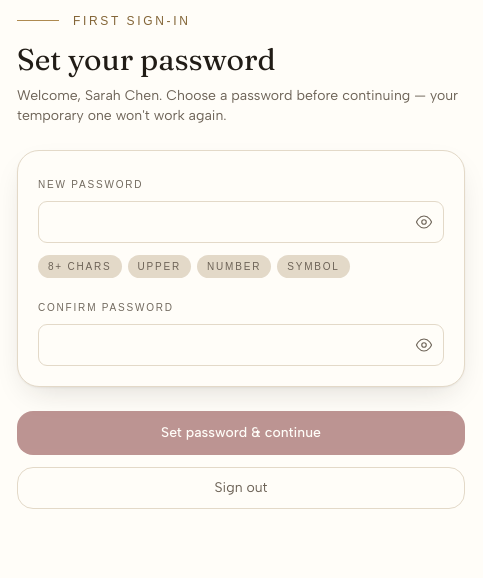
Test case: FirstLoginPassword › shows a generic error for any other failure
The width and height of the screenshot is (483, 578).
Step 1. Type "Str0ng!pass" into the password field labelled "New password" → (241, 222), box [38, 200, 444, 242]
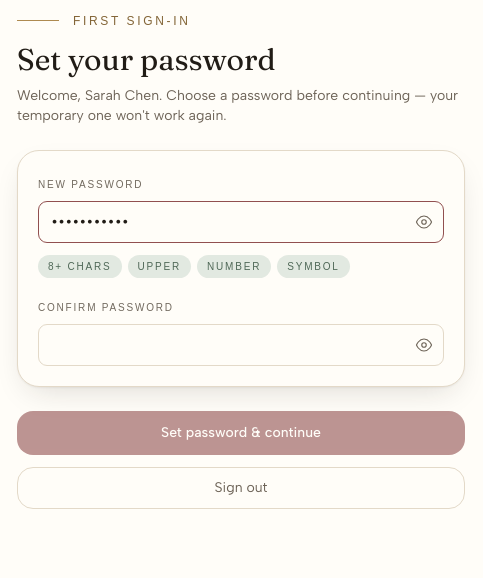
Step 2. Type "Str0ng!pass" into the password field labelled "Confirm password" → (241, 344), box [38, 324, 444, 366]
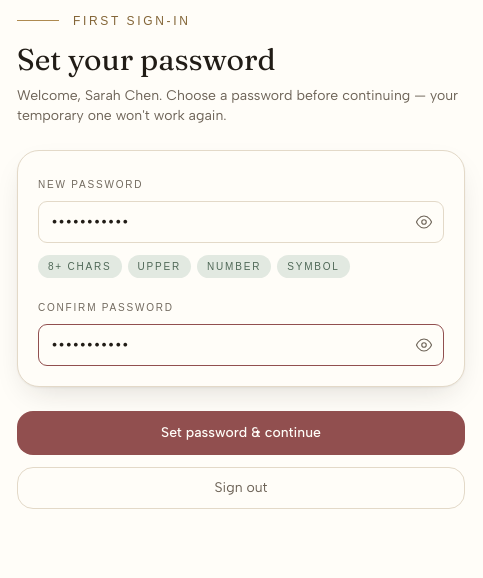
Step 3. Click the button "Set password & continue" → (241, 432), box [17, 410, 465, 454]
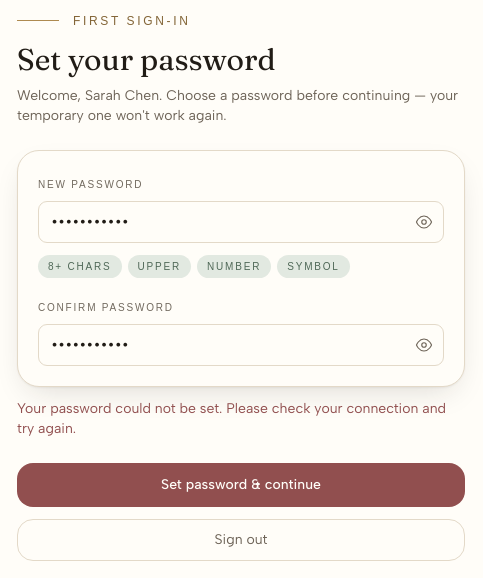
Now the text "could not be set" is shown, box [17, 400, 446, 436]
